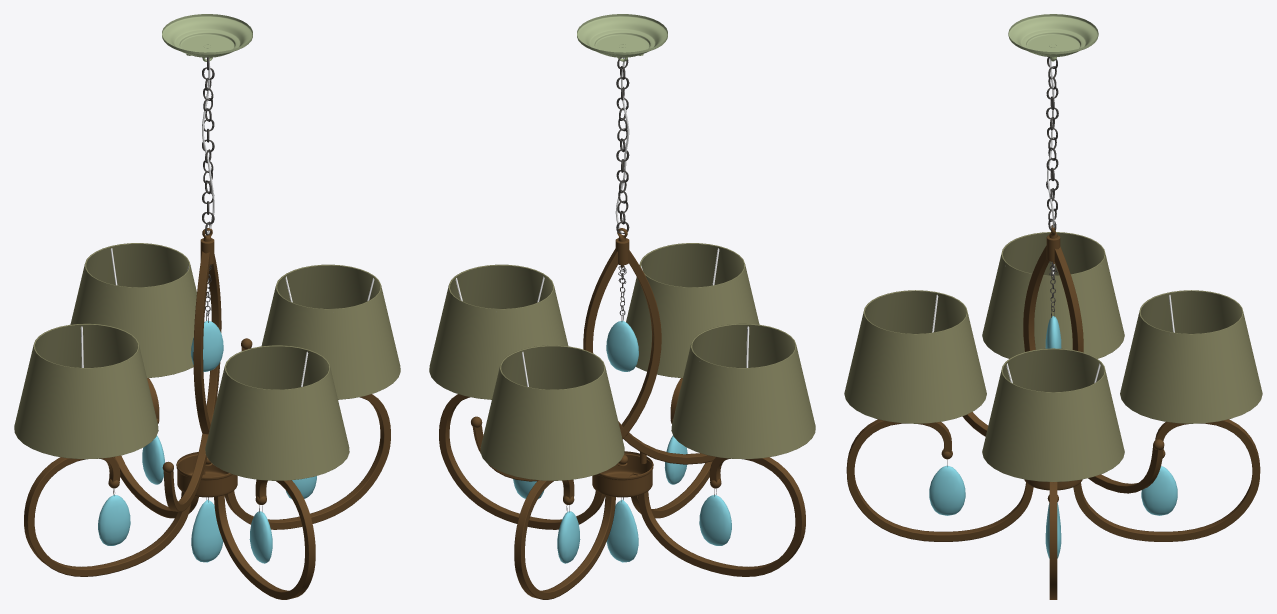
File: BedroomLights.glb
3 renders of one model, left to right at view 1: azimuth 30°, elevation 25°; view 2: azimuth 150°, elevation 25°; view 3: azimuth 270°, elevation 25°, orthographic.
Parts seen in each view (by area): view 1: torsher, crepej, Sphere.003, Cylinder.004, cep2; view 2: torsher, crepej, Sphere.003, Cylinder.004, cep2; view 3: torsher, crepej, Sphere.003, Cylinder.004, cep2.
Part boxes in pixels (<box>): torsher: <box>14,243,400,480</box>; crepej: <box>24,228,390,599</box>; Sphere.003: <box>98,313,316,563</box>; Cylinder.004: <box>162,14,252,61</box>; cep2: <box>202,57,214,282</box>; torsher: <box>429,243,815,480</box>; crepej: <box>439,228,805,599</box>; Sphere.003: <box>513,313,731,563</box>; Cylinder.004: <box>577,14,667,61</box>; cep2: <box>616,57,629,283</box>; torsher: <box>844,232,1262,481</box>; crepej: <box>846,225,1260,599</box>; Sphere.003: <box>929,309,1177,558</box>; Cylinder.004: <box>1008,14,1098,61</box>; cep2: <box>1046,57,1058,280</box>.
Bounding box in the file's own units: 1.46 × 2.01 × 1.46.
